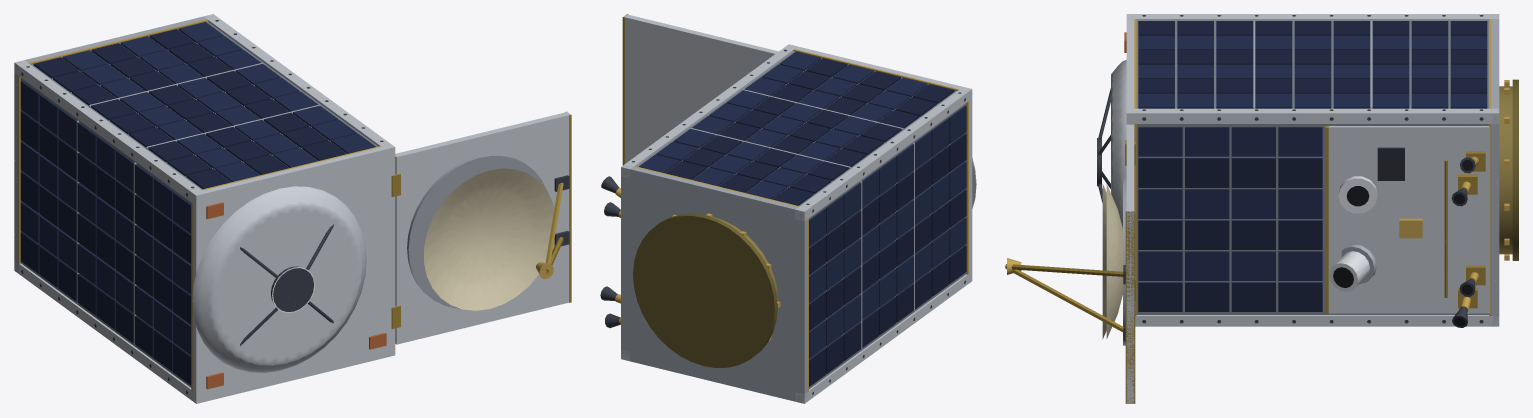
File: skysat.glb
3 views of the same model, side by side, from view 1: azimuth 30°, elevation 25°; view 2: azimuth 150°, elevation 25°; view 3: azimuth 270°, elevation 25° (orthographic). The views are drawn at different scales.
Visible parts, largest first — view 1: body, solar-panel, foil; view 2: body, solar-panel; view 3: body, solar-panel, foil.
Part boxes in pixels (x1,y1,x2,y2): body: (14, 14, 571, 403); solar-panel: (20, 22, 375, 384); foil: (272, 168, 554, 313); body: (600, 14, 976, 403); solar-panel: (639, 51, 966, 386); body: (1005, 14, 1518, 403); solar-panel: (1138, 21, 1487, 311); foil: (1102, 176, 1377, 339).
Bounding box in the file's own units: 1.14 × 0.604 × 1.31.
